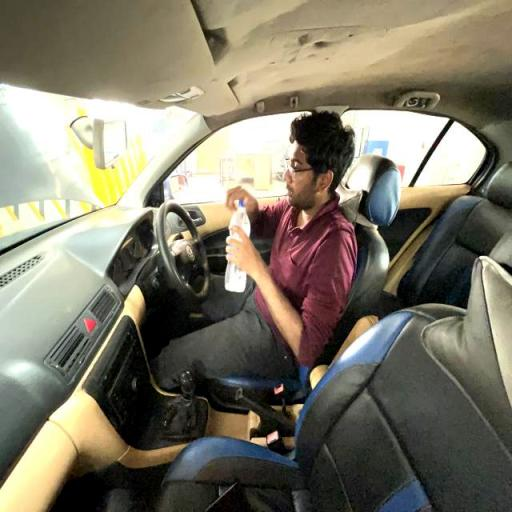Drinking: (182, 113, 356, 386)
